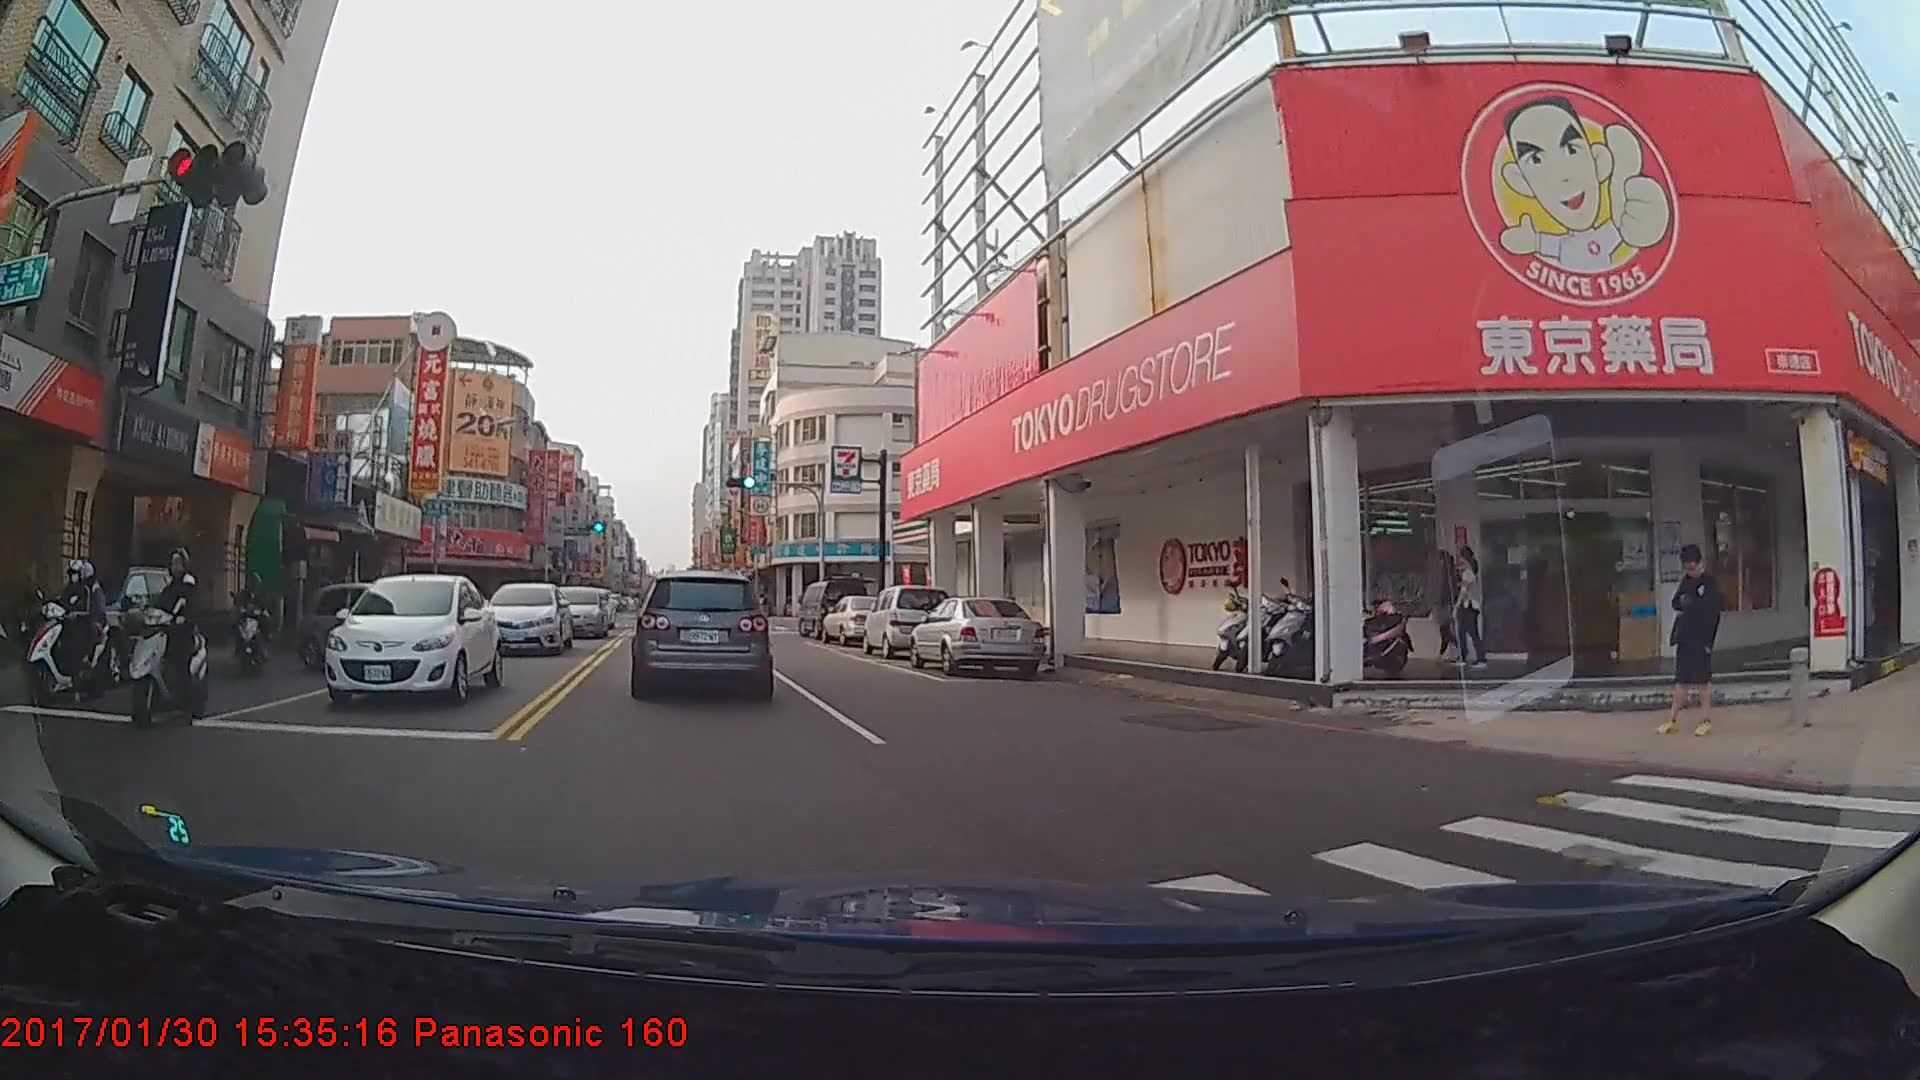pedestrian: (1656, 545, 1726, 740), (1447, 550, 1489, 676), (1433, 549, 1470, 665)
rider: (116, 549, 222, 732), (17, 559, 130, 706)
vehicle: (323, 575, 503, 710), (14, 562, 196, 689), (635, 571, 768, 699), (907, 595, 1046, 680), (860, 585, 953, 660), (481, 580, 573, 654), (802, 582, 866, 638), (823, 597, 897, 643), (550, 587, 607, 640)
